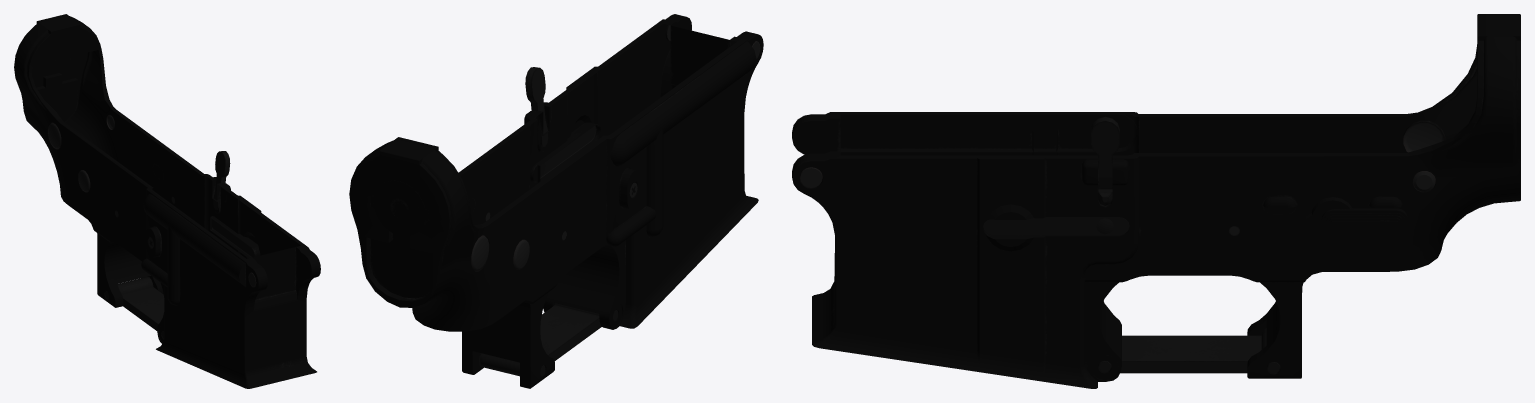
The model's file is M4_LowerReciever.fbx.
3 views of the same model, side by side, from view 1: azimuth 30°, elevation 25°; view 2: azimuth 150°, elevation 25°; view 3: azimuth 270°, elevation 25° (orthographic). The views are drawn at different scales.
Visible parts, largest first — view 1: BaseLowerReciever; view 2: BaseLowerReciever; view 3: BaseLowerReciever.
Part boxes in pixels (left/top/right/bottom): BaseLowerReciever: left=14, top=14, right=320, bottom=388; BaseLowerReciever: left=349, top=14, right=763, bottom=388; BaseLowerReciever: left=792, top=14, right=1520, bottom=388.
Bounding box in the file's own units: 3.8 × 10.13 × 19.77.
1 material, 1 textured.
